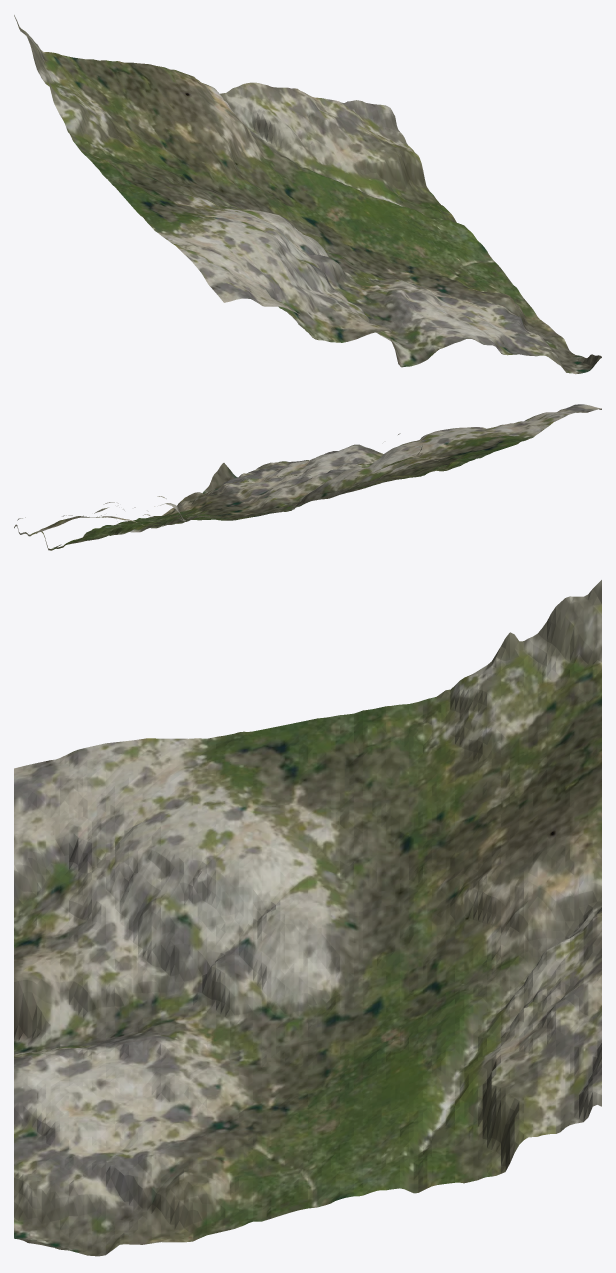
3 renders of one model, top to bottom at view 1: azimuth 30°, elevation 25°; view 2: azimuth 150°, elevation 25°; view 3: azimuth 270°, elevation 25°, orthographic. The views are drawn at different scales.
Size of the model in its own units: 250 by 190 by 241.
1 material, 1 textured.
